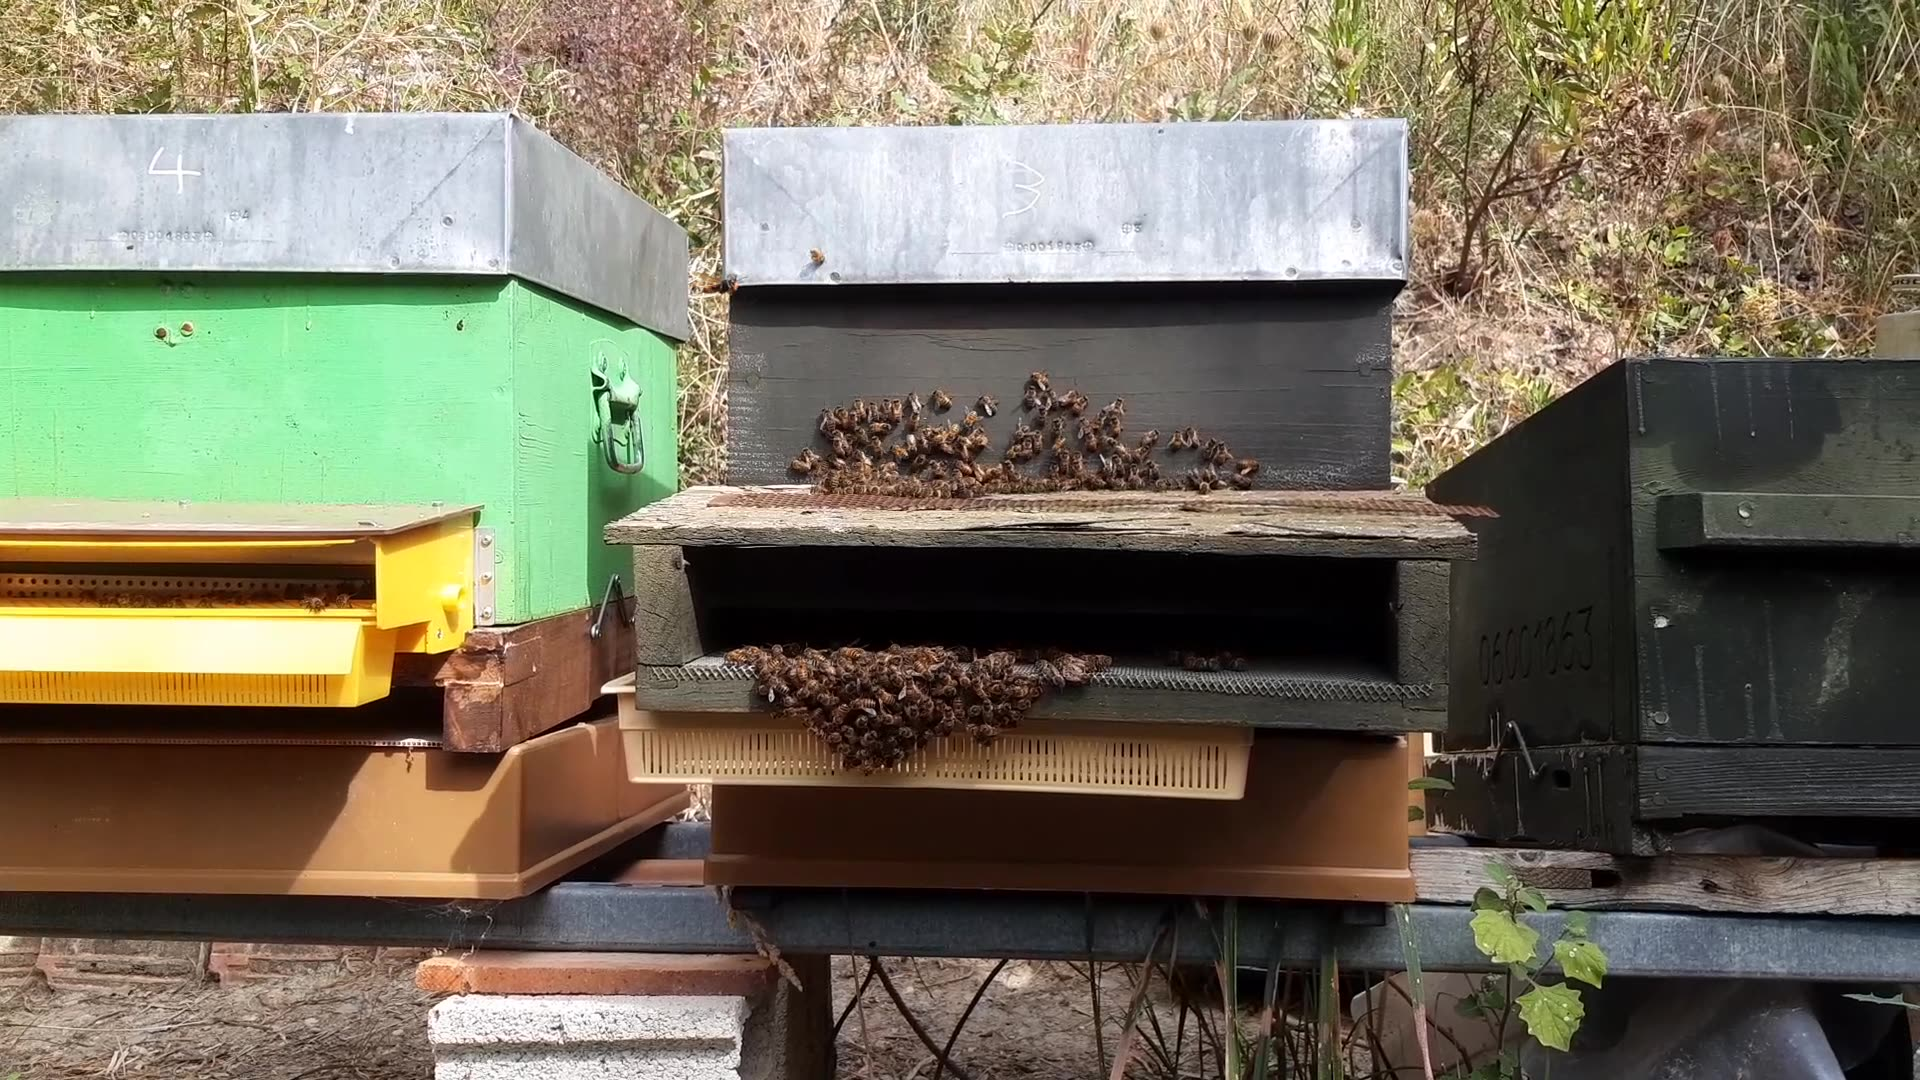bee: (843, 712, 918, 781), (1162, 444, 1240, 495), (1025, 392, 1087, 444), (833, 636, 924, 669), (1042, 448, 1096, 502), (938, 464, 1000, 508), (1150, 431, 1215, 472), (843, 401, 905, 440), (951, 378, 1006, 419)
